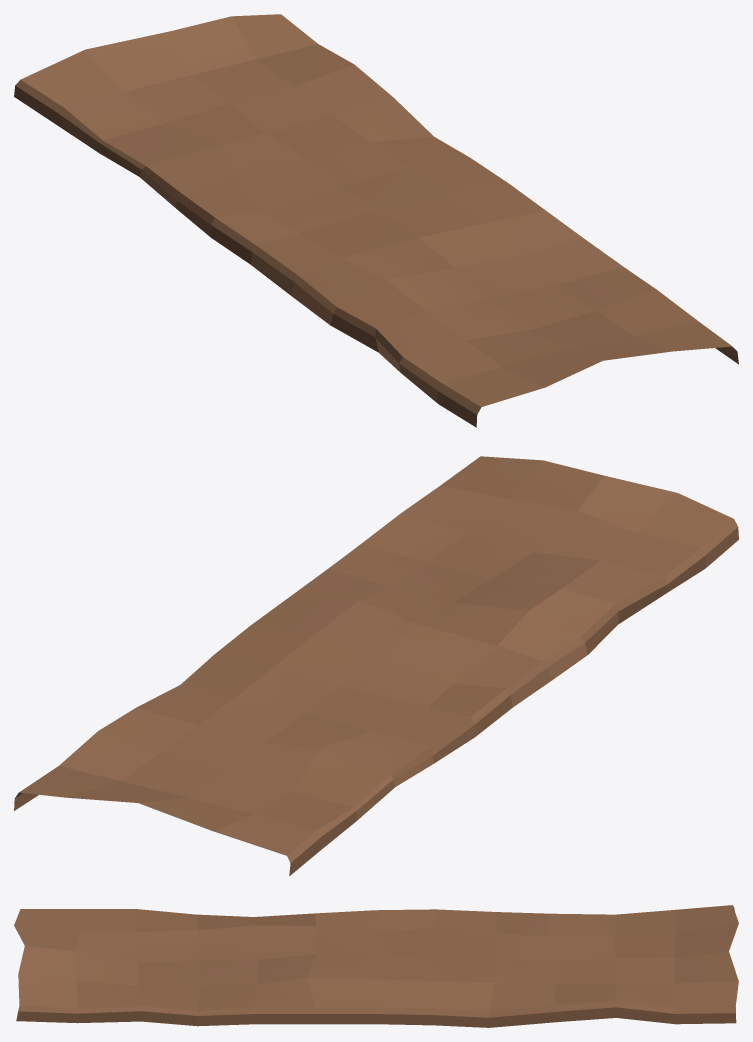
Rendered from RoadTile_5.fbx.
3 renders of one model, top to bottom at view 1: azimuth 30°, elevation 25°; view 2: azimuth 150°, elevation 25°; view 3: azimuth 270°, elevation 25°, orthographic. The views are drawn at different scales.
Visible parts, largest first — view 1: RoadTile_5; view 2: RoadTile_5; view 3: RoadTile_5.
Boxes of the visible parts, x1,y1,x2,y2 form: RoadTile_5: (14,14,738,427); RoadTile_5: (14,456,738,875); RoadTile_5: (14,905,738,1027).
Size of the model in its own units: 415 by 59.67 by 1209.
